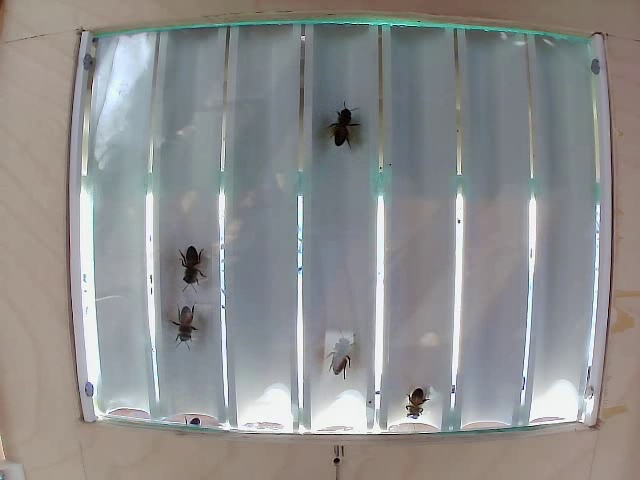bee: (168, 248, 209, 291), (324, 105, 364, 148), (313, 334, 352, 377), (399, 377, 428, 411), (163, 306, 195, 336)
